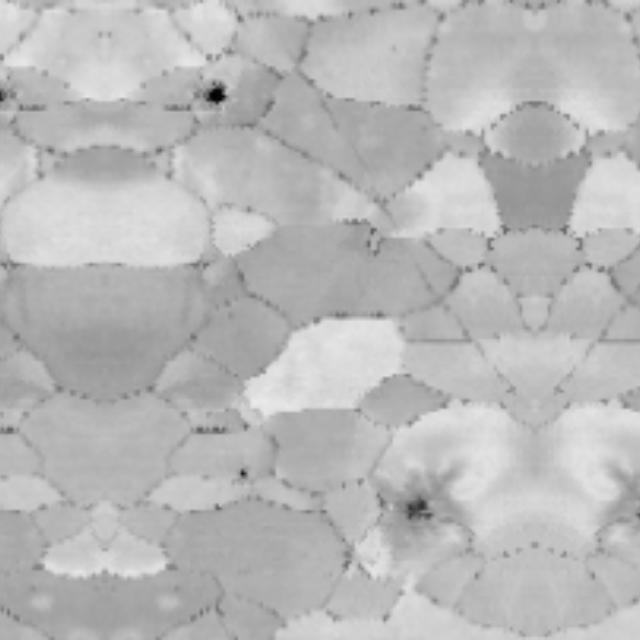good_void: (165, 73, 249, 114), (190, 415, 247, 451), (393, 494, 440, 527), (0, 77, 45, 111), (0, 421, 20, 448), (232, 467, 256, 485), (632, 494, 640, 525)
